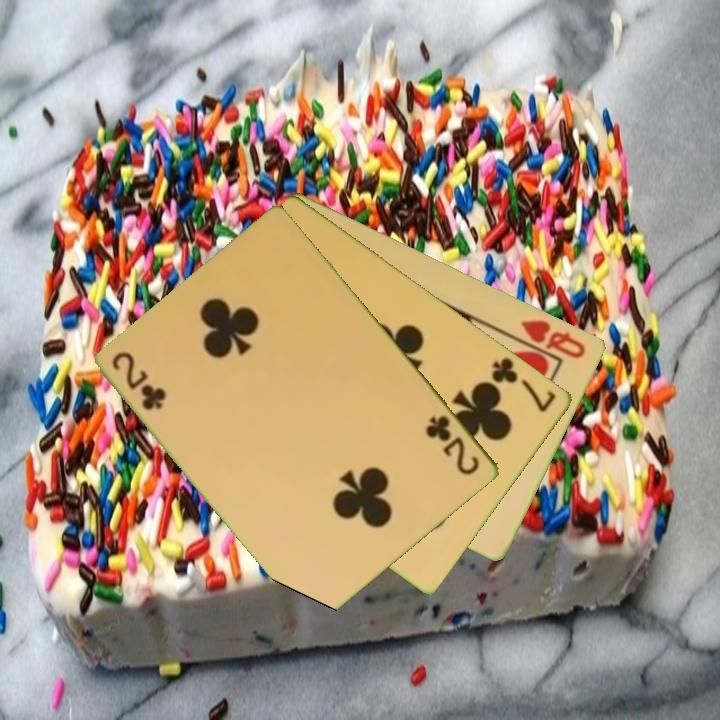2c: (422, 411, 483, 478), (109, 348, 169, 414)
7c: (488, 354, 560, 415)
Qh: (518, 316, 589, 361)
